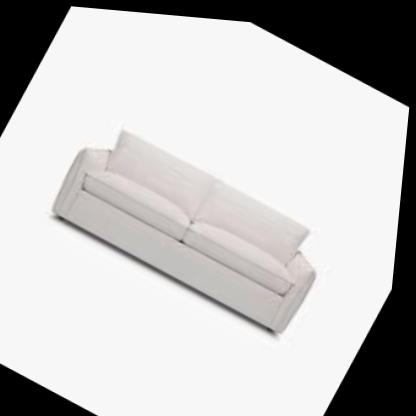Sofa: (0, 67, 384, 376)
